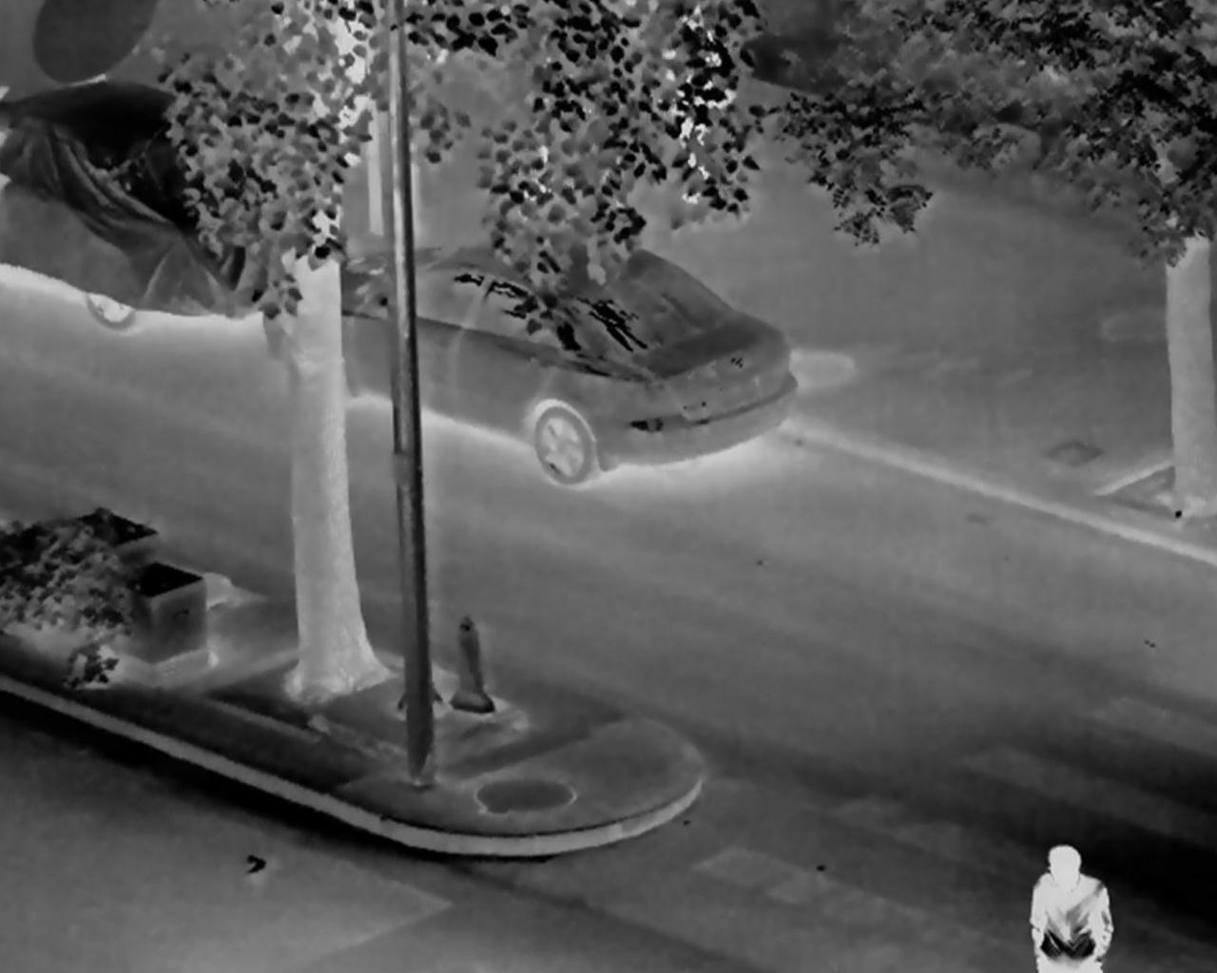person: (654, 3, 741, 202), (1027, 842, 1114, 973)
